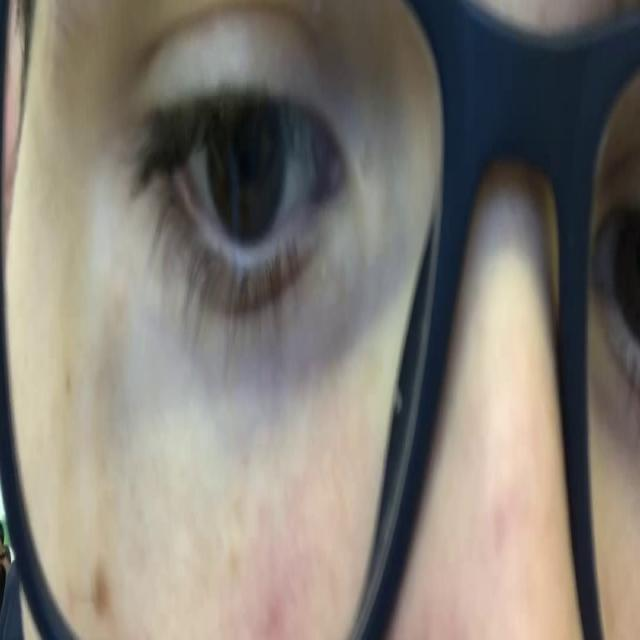eye: (129, 30, 363, 351)
gaze: (201, 70, 289, 266)
